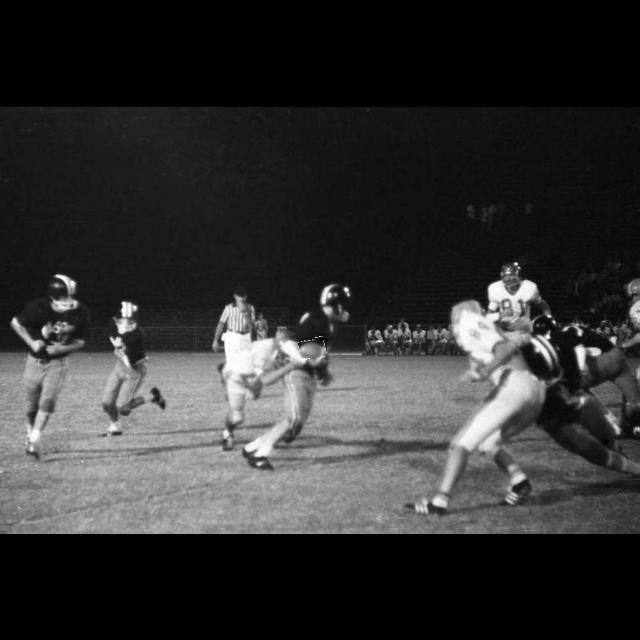Football: (299, 338, 327, 358)
